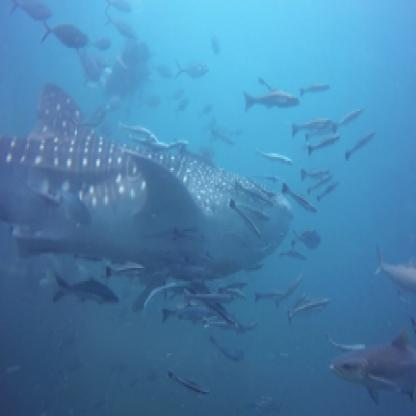Shark -Selachimorpha-: (1, 71, 296, 286)
